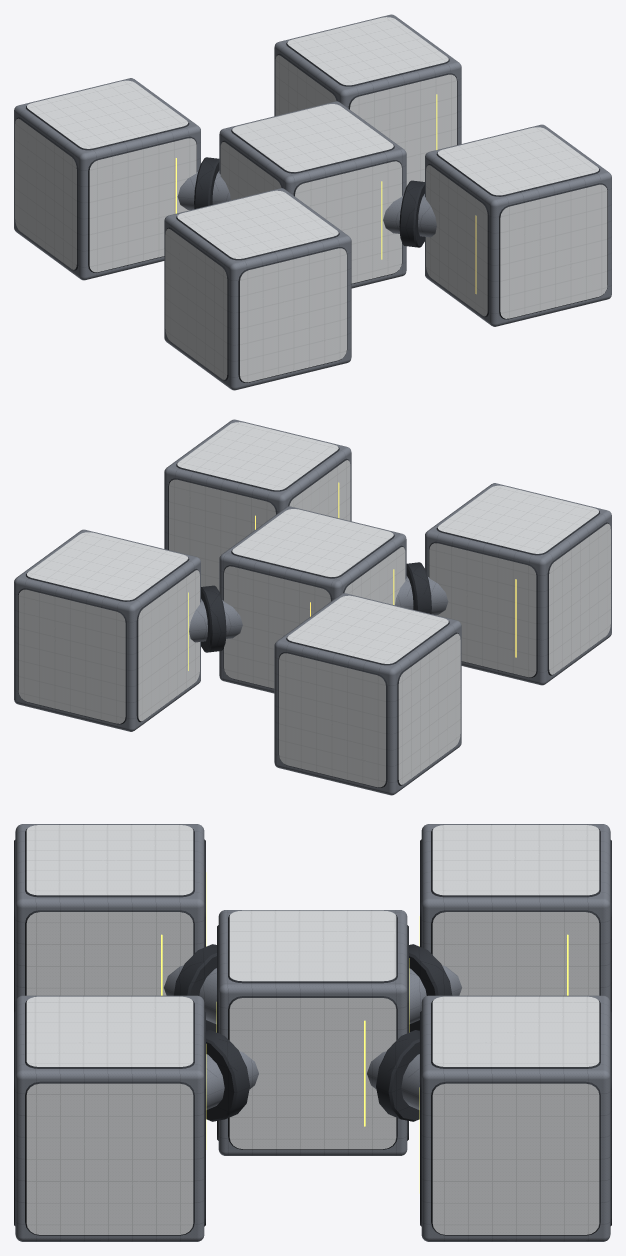
Rendered from R4C_STRUT_CROSS.glb.
3 views of the same model, one above another, from view 1: azimuth 30°, elevation 25°; view 2: azimuth 150°, elevation 25°; view 3: azimuth 270°, elevation 25° (orthographic). The views are drawn at different scales.
Parts seen in each view (by area): view 1: R4C_STRUT_CROSS; view 2: R4C_STRUT_CROSS; view 3: R4C_STRUT_CROSS.
Boxes of the visible parts, box(x1,y1,x2,y2) form: R4C_STRUT_CROSS: box(14, 14, 611, 390); R4C_STRUT_CROSS: box(14, 419, 611, 795); R4C_STRUT_CROSS: box(14, 824, 611, 1241).
Size of the model in its own units: 1.62 by 0.52 by 1.62.
Materials: 4 (3 with a texture image).
